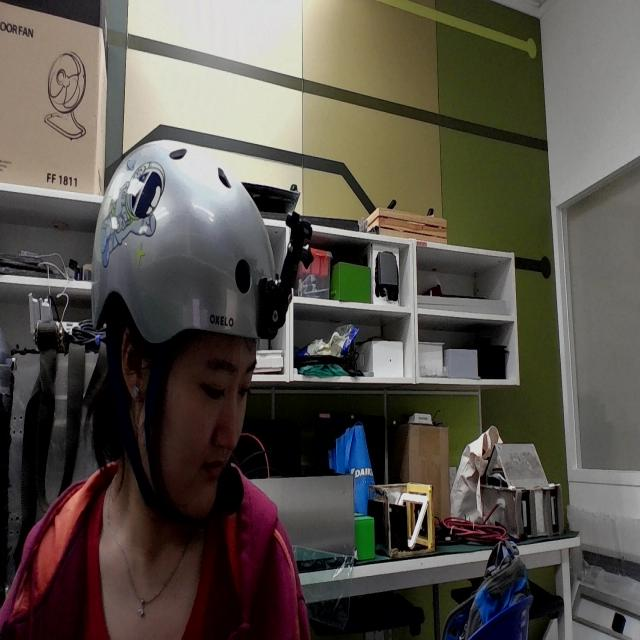With Helmet: (73, 108, 323, 571)
